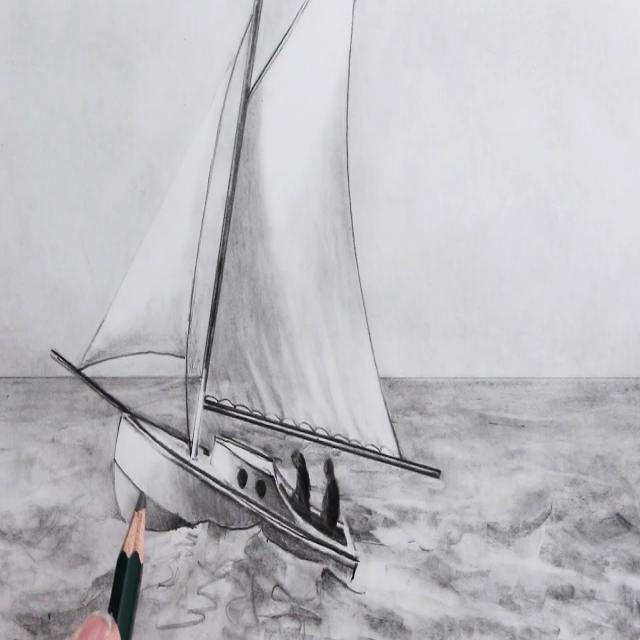boat: (52, 0, 445, 601)
